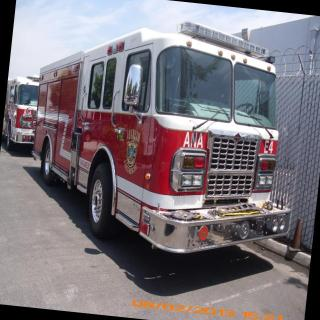Fire_truck: (21, 5, 310, 265), (0, 72, 41, 153)
